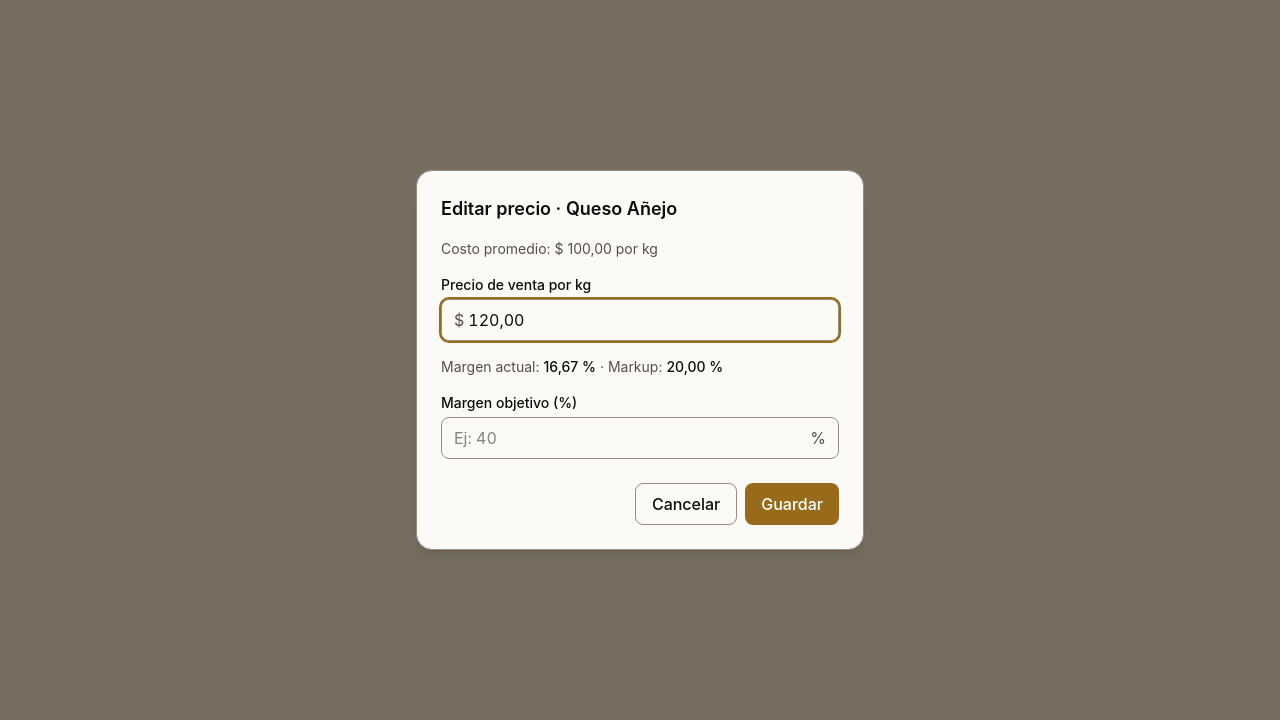
Test case: ModalPrecio › cargar el margen objetivo muestra el precio sugerido con redondeo comercial ($5) y el margen efectivo YA redondeado
Type "25" into the field labelled "Margen objetivo (%)". click: (630, 438)
box: [454,426,806,450]
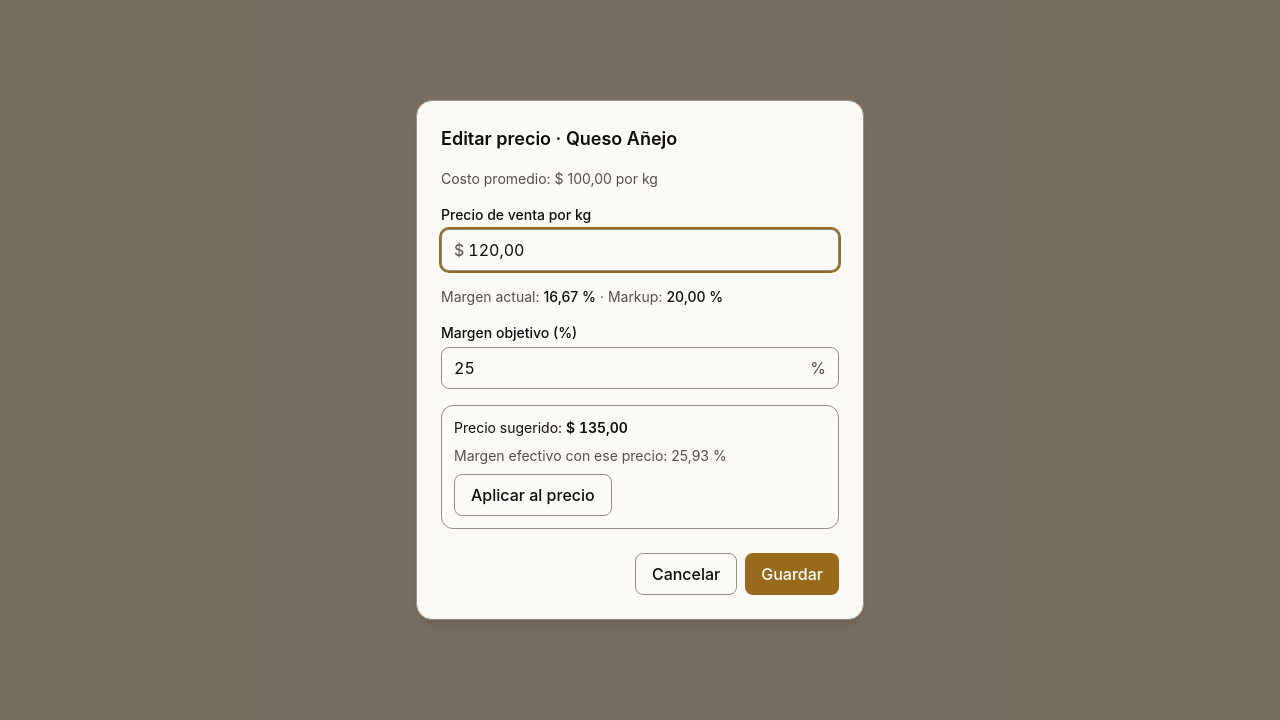
Check: the text "$ 135,00" is shown, box [566,419,628,436]
Check: the text "Margen efectivo con ese precio: 25,93 %" is shown, box [454,447,727,464]
